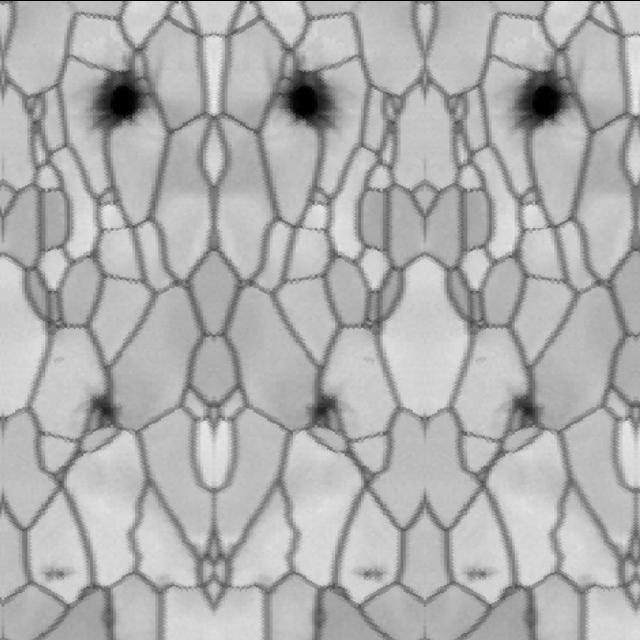good_void: (273, 57, 361, 139), (491, 57, 579, 139), (67, 57, 155, 139), (308, 382, 356, 431), (496, 382, 544, 431), (72, 382, 120, 431), (353, 565, 391, 587), (461, 565, 499, 587), (37, 565, 75, 587), (363, 352, 377, 365), (475, 352, 489, 365), (51, 352, 65, 365)
